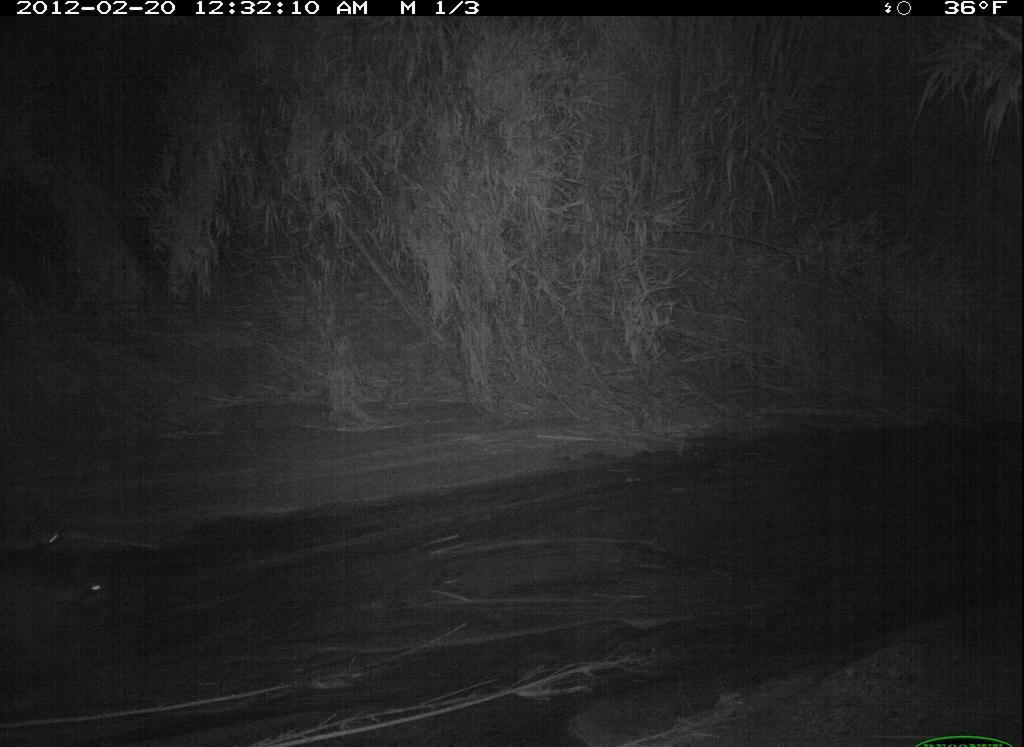raccoon: (8, 528, 117, 646)
